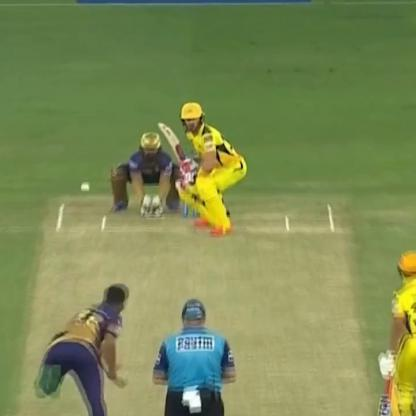ball: (74, 182, 95, 196)
bat: (153, 112, 197, 181), (369, 348, 399, 415)
pitch: (30, 188, 378, 416)
